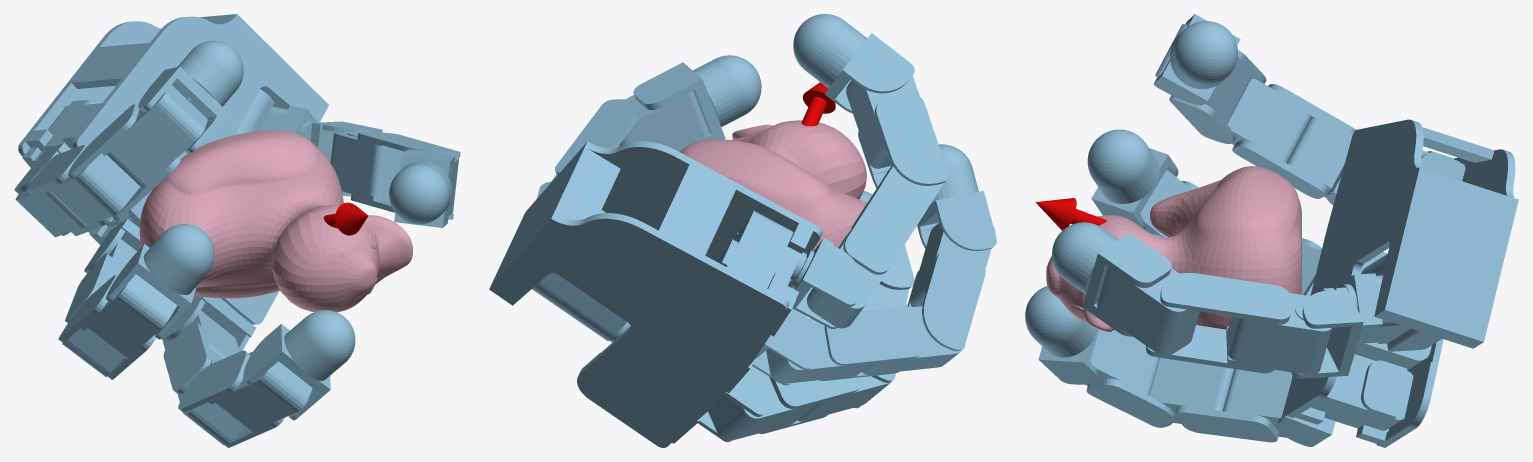
3 renders of one model, left to right at view 1: azimuth 30°, elevation 25°; view 2: azimuth 150°, elevation 25°; view 3: azimuth 270°, elevation 25°, orthographic. The views are drawn at different scales.
Visible parts, largest first — view 1: world, rubber_duck.stl; view 2: world, rubber_duck.stl; view 3: world, rubber_duck.stl.
Boxes of the visible parts, x1,y1,x2,y2 form: world: (14, 14, 460, 447); rubber_duck.stl: (139, 130, 412, 312); world: (489, 14, 996, 447); rubber_duck.stl: (680, 120, 867, 287); world: (1025, 14, 1518, 447); rubber_duck.stl: (1046, 166, 1301, 331).
Bounding box in the file's own units: 0.1711 × 0.1689 × 0.1851.
